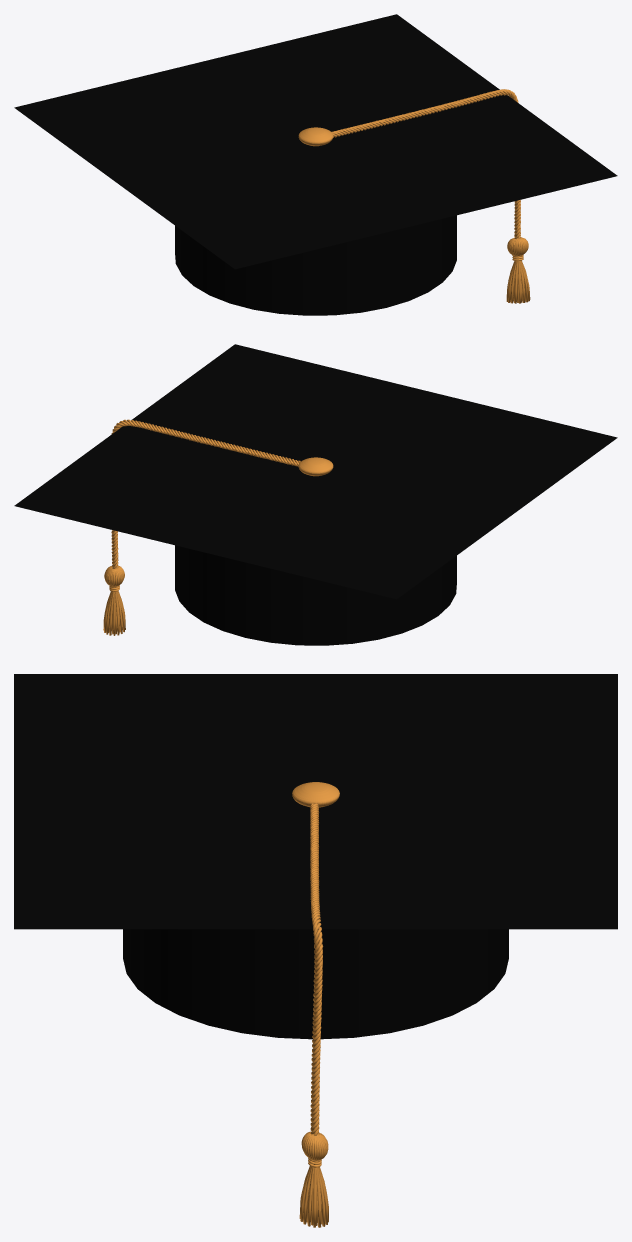
The model's file is university.glb.
The picture shows the model from 3 angles, top to bottom: view 1: azimuth 30°, elevation 25°; view 2: azimuth 150°, elevation 25°; view 3: azimuth 270°, elevation 25°; orthographic projection. The views are drawn at different scales.
Visible parts, largest first — view 1: Plane, Cap Cylinder, Rope, Tassels, Button; view 2: Plane, Cap Cylinder, Rope, Tassels, Button; view 3: Plane, Cap Cylinder, Rope, Tassels, Button.
Boxes of the visible parts, x1=… form: Plane: x1=14, y1=14, x2=617, y2=269; Cap Cylinder: x1=175, y1=215, x2=456, y2=315; Rope: x1=332, y1=89, x2=520, y2=238; Tassels: x1=506, y1=237, x2=530, y2=303; Button: x1=298, y1=127, x2=333, y2=146; Plane: x1=14, y1=344, x2=617, y2=599; Cap Cylinder: x1=175, y1=545, x2=456, y2=645; Rope: x1=111, y1=419, x2=300, y2=568; Tassels: x1=103, y1=565, x2=125, y2=635; Button: x1=298, y1=457, x2=333, y2=476; Plane: x1=14, y1=674, x2=617, y2=929; Cap Cylinder: x1=123, y1=929, x2=508, y2=1039; Rope: x1=310, y1=803, x2=323, y2=1135; Tassels: x1=299, y1=1131, x2=328, y2=1227; Button: x1=292, y1=782, x2=339, y2=807.
Size of the model in its own units: 1.72 by 0.9016 by 1.64.
